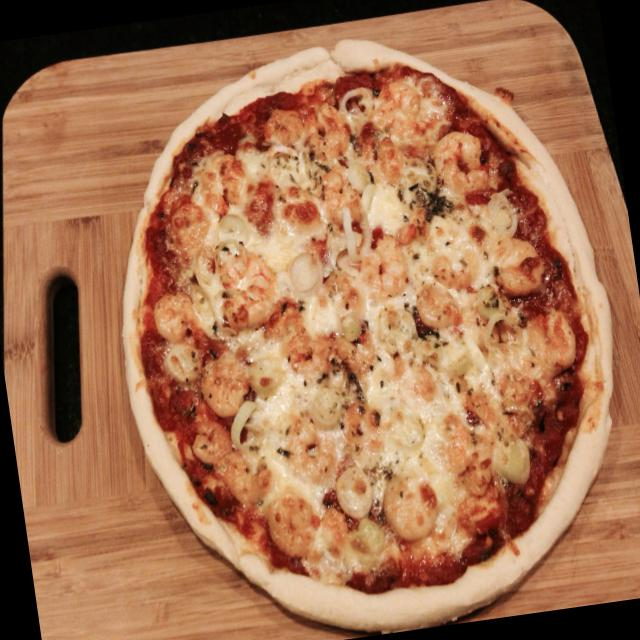camarao: (429, 123, 494, 208), (258, 487, 326, 566), (381, 462, 438, 542), (197, 341, 251, 420), (296, 98, 356, 160), (410, 274, 462, 338), (144, 283, 197, 345)
pizza: (87, 13, 639, 639)
